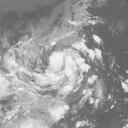cyclone: (42, 48, 87, 92)
